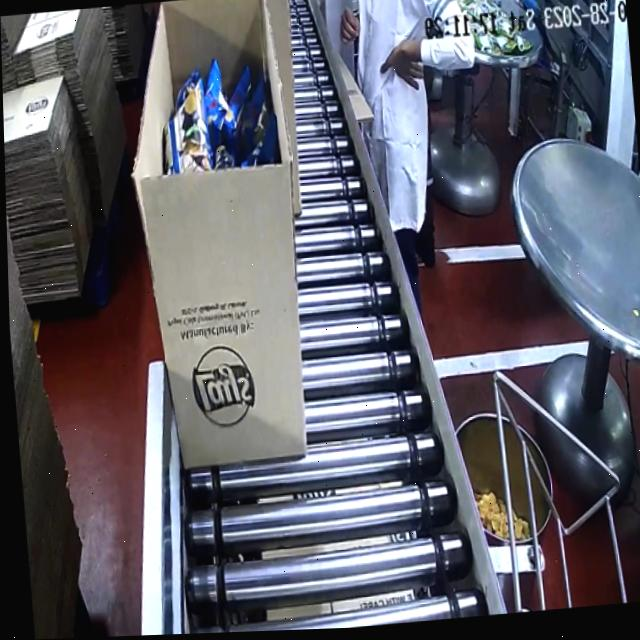PAPRIKA: (159, 63, 280, 179)
